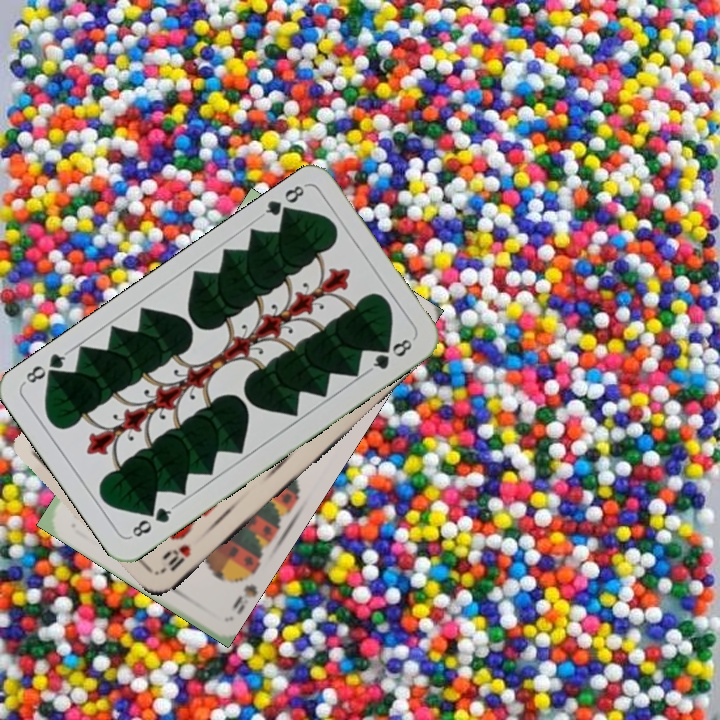G8: (256, 180, 308, 223), (126, 501, 178, 541)
H10: (158, 541, 194, 574)
S9: (228, 562, 260, 616)
